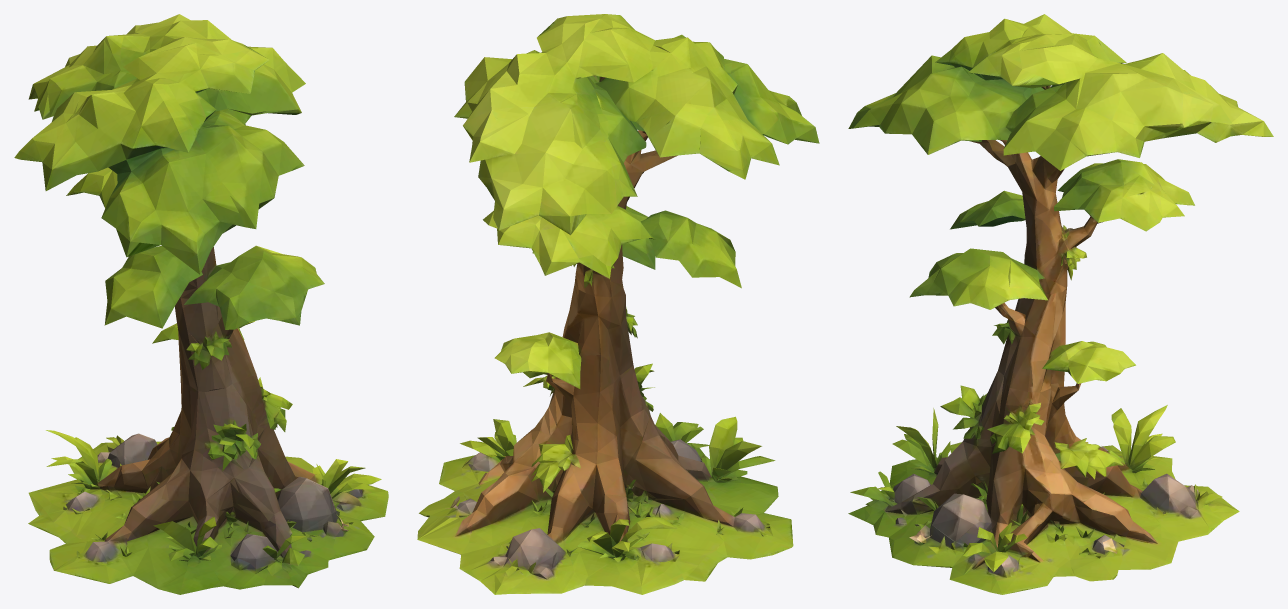
Rendered from KeepSakeTallTreeV1.glb.
3 views of the same model, side by side, from view 1: azimuth 30°, elevation 25°; view 2: azimuth 150°, elevation 25°; view 3: azimuth 270°, elevation 25° (orthographic). The views are drawn at different scales.
Parts seen in each view (by area): view 1: tripo_node_b374f1f5-9846-4245-ac63-4adb1045880d; view 2: tripo_node_b374f1f5-9846-4245-ac63-4adb1045880d; view 3: tripo_node_b374f1f5-9846-4245-ac63-4adb1045880d.
Part boxes in pixels (x1,y1,x2,y2): tripo_node_b374f1f5-9846-4245-ac63-4adb1045880d: [14, 14, 388, 594]; tripo_node_b374f1f5-9846-4245-ac63-4adb1045880d: [417, 14, 819, 594]; tripo_node_b374f1f5-9846-4245-ac63-4adb1045880d: [848, 14, 1273, 594].
Size of the model in its own units: 0.7191 by 0.9781 by 0.7977.
Materials: 1 (1 with a texture image).
